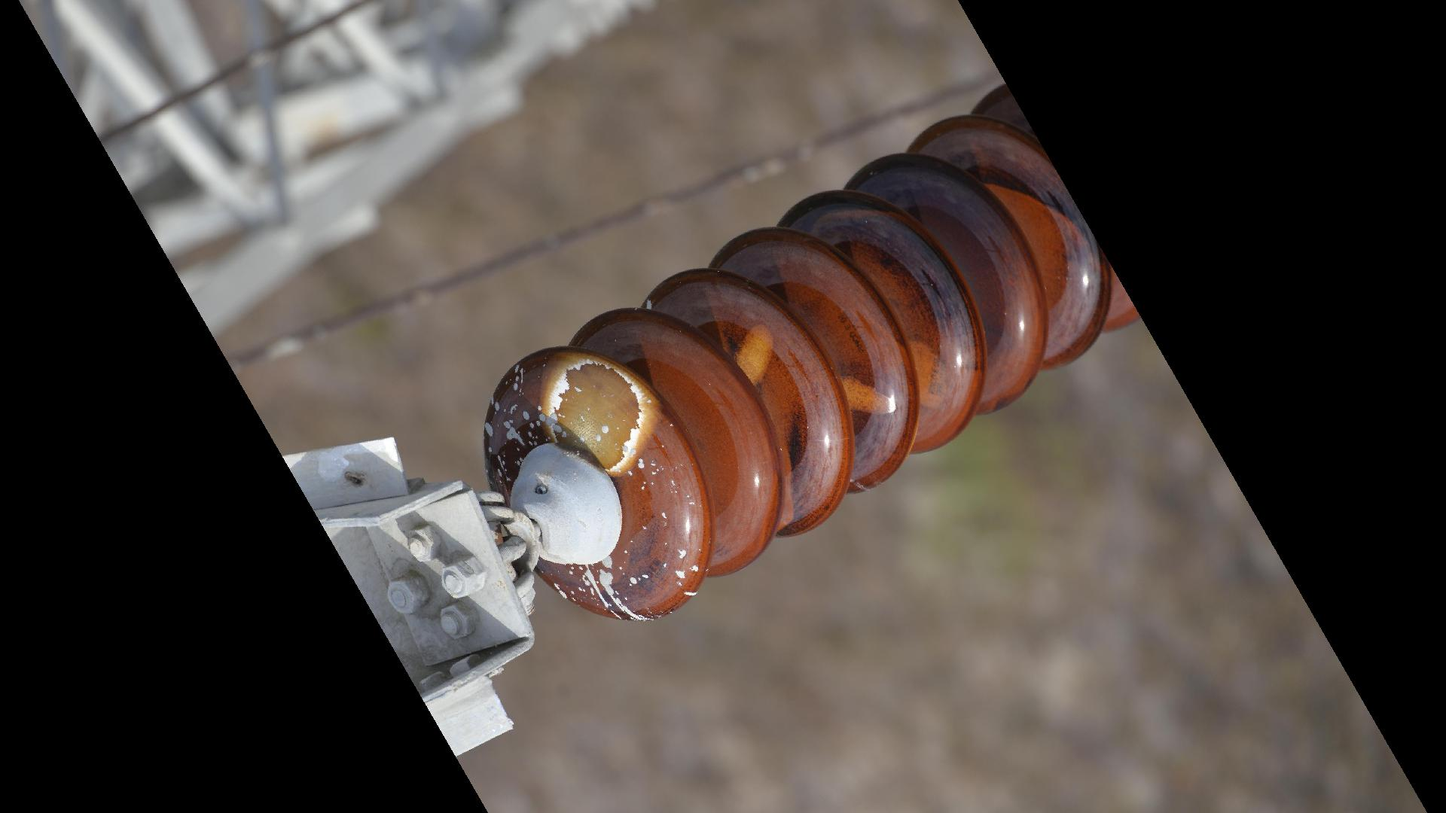insulator: (476, 82, 1146, 630)
insulator_flashover: (532, 349, 661, 478), (731, 321, 778, 385), (836, 371, 898, 418)
